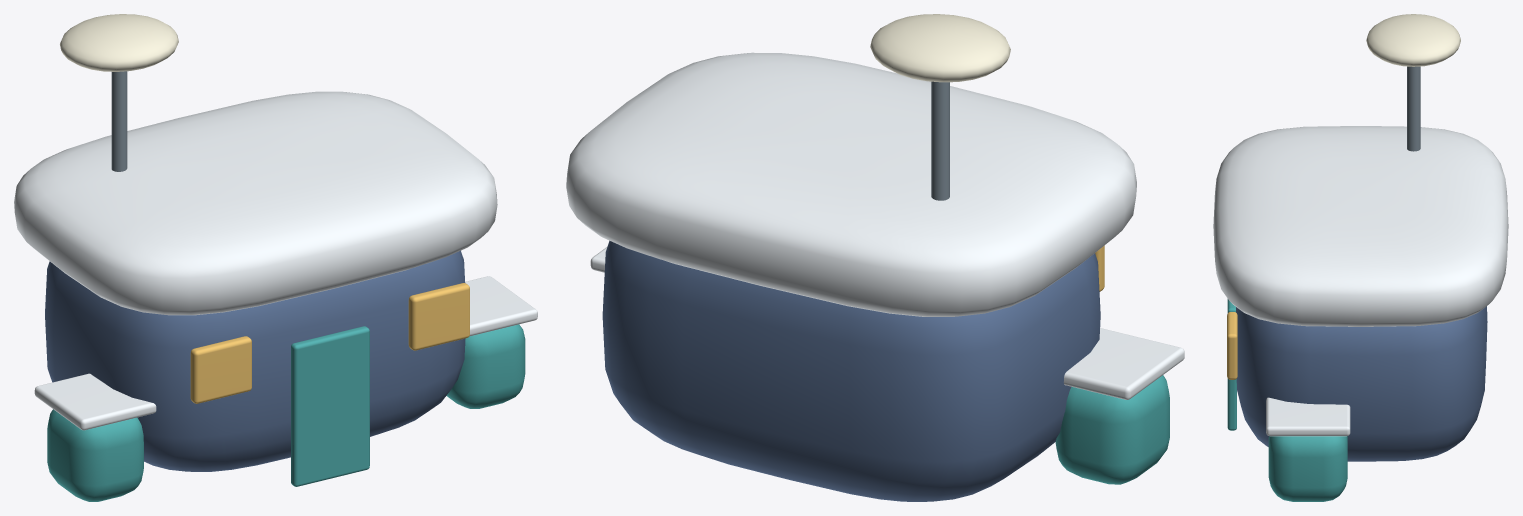
The model's file is Decor_Snow.fbx.
3 renders of one model, left to right at view 1: azimuth 30°, elevation 25°; view 2: azimuth 150°, elevation 25°; view 3: azimuth 270°, elevation 25°, orthographic. The views are drawn at different scales.
Visible parts, largest first — view 1: Snow roof, Polar station, Station door, Supply crate, Antenna dish, Supply crate.001, Snow cap, Warm window, Warm window.001, Snow cap.001, Antenna pole; view 2: Snow roof, Polar station, Supply crate, Antenna dish, Snow cap, Antenna pole; view 3: Snow roof, Polar station, Supply crate.001, Antenna dish, Snow cap.001, Antenna pole, Warm window.001, Station door.
Part boxes in pixels (left/top/right/bottom): Snow roof: left=14, top=91, right=497, bottom=315; Polar station: left=45, top=250, right=465, bottom=471; Station door: left=291, top=326, right=369, bottom=486; Supply crate: left=47, top=409, right=143, bottom=501; Antenna dish: left=60, top=14, right=178, bottom=71; Supply crate.001: left=446, top=324, right=525, bottom=408; Snow cap: left=34, top=373, right=156, bottom=430; Warm window: left=190, top=336, right=251, bottom=403; Warm window.001: left=408, top=283, right=469, bottom=350; Snow cap.001: left=465, top=276, right=537, bottom=336; Antenna pole: left=111, top=71, right=127, bottom=171; Snow roof: left=566, top=52, right=1136, bottom=316; Polar station: left=602, top=240, right=1100, bottom=501; Supply crate: left=1055, top=375, right=1169, bottom=484; Antenna dish: left=870, top=14, right=1010, bottom=82; Snow cap: left=1063, top=328, right=1184, bottom=399; Antenna pole: left=931, top=81, right=949, bottom=200; Snow roof: left=1213, top=126, right=1508, bottom=326; Polar station: left=1236, top=306, right=1487, bottom=461; Supply crate.001: left=1268, top=436, right=1347, bottom=501; Antenna dish: left=1366, top=14, right=1460, bottom=66; Snow cap.001: left=1266, top=397, right=1350, bottom=436; Antenna pole: left=1407, top=66, right=1420, bottom=151; Warm window.001: left=1227, top=312, right=1237, bottom=379; Station door: left=1227, top=299, right=1236, bottom=430.
Bounding box in the file's own units: 432 × 363 × 280.
